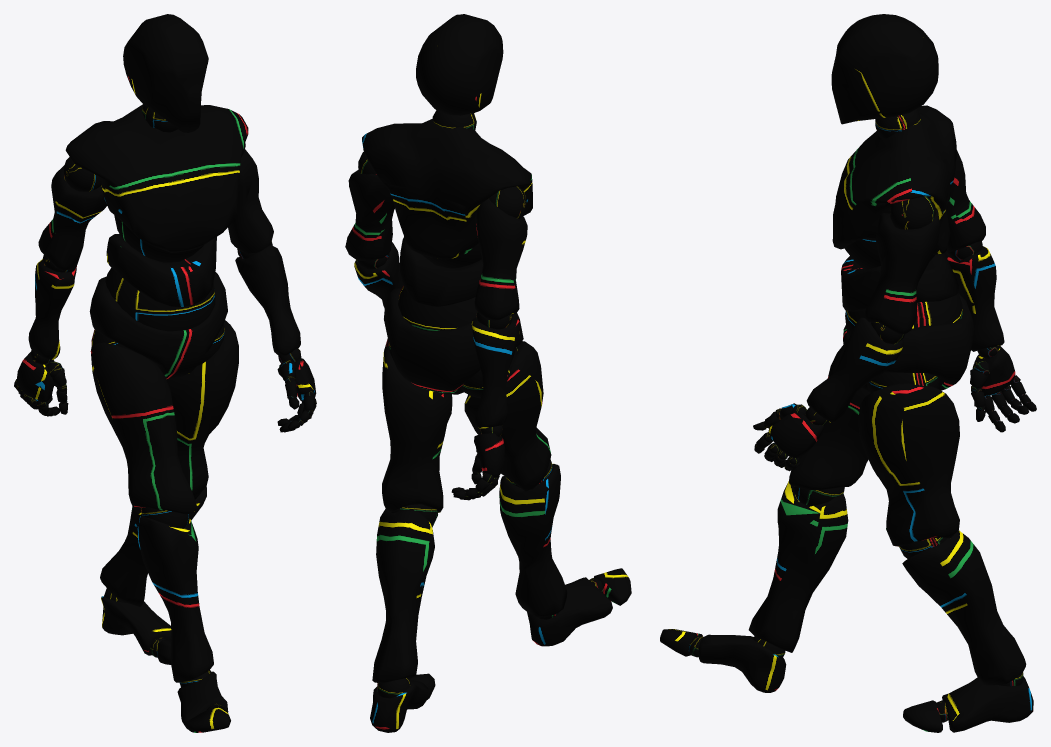
Rendered from y-bot-origin_000003.obj.
3 renders of one model, left to right at view 1: azimuth 30°, elevation 25°; view 2: azimuth 150°, elevation 25°; view 3: azimuth 270°, elevation 25°, orthographic. The views are drawn at different scales.
Visible parts, largest first — view 1: Alpha_Surface_Alpha_SurfaceMesh, Alpha_Joints_Alpha_JointsMesh; view 2: Alpha_Surface_Alpha_SurfaceMesh, Alpha_Joints_Alpha_JointsMesh; view 3: Alpha_Surface_Alpha_SurfaceMesh, Alpha_Joints_Alpha_JointsMesh.
Part boxes in pixels (x1,y1,x2,y2): Alpha_Surface_Alpha_SurfaceMesh: (14,14,316,732); Alpha_Joints_Alpha_JointsMesh: (14,104,316,709); Alpha_Surface_Alpha_SurfaceMesh: (345,14,631,732); Alpha_Joints_Alpha_JointsMesh: (356,110,603,698); Alpha_Surface_Alpha_SurfaceMesh: (660,14,1036,732); Alpha_Joints_Alpha_JointsMesh: (688,109,1029,722).
Bounding box in the file's own units: 0.5547 × 1.76 × 0.8661.
